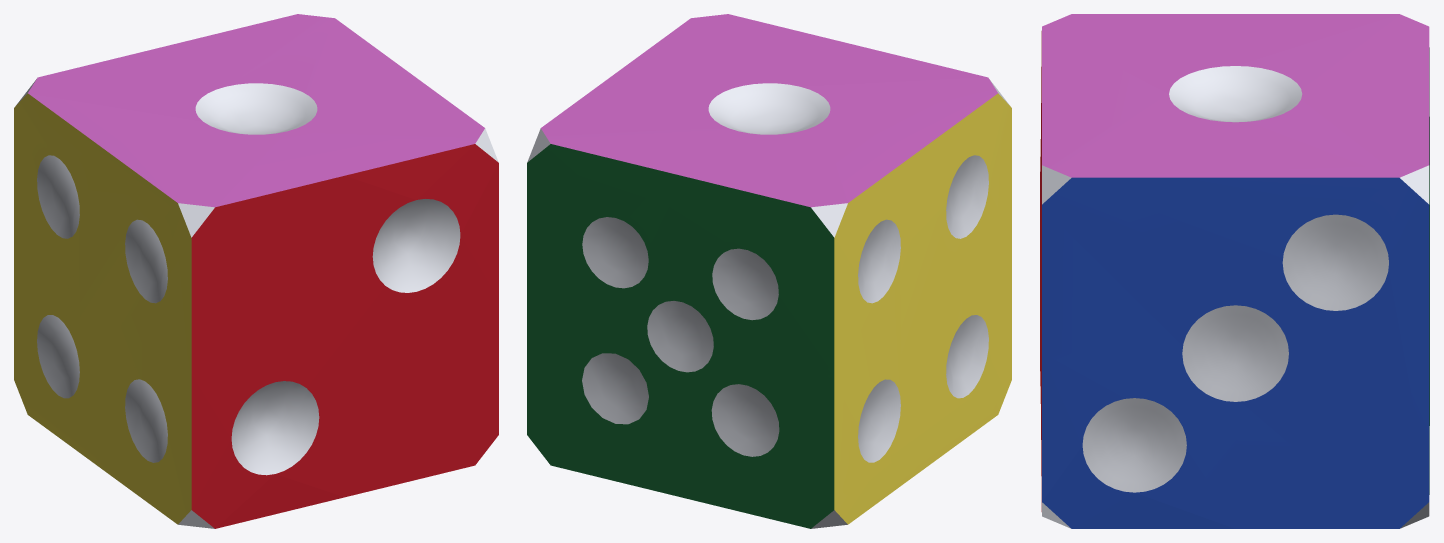
Rendered from Dice_ManyColor.fbx.
3 renders of one model, left to right at view 1: azimuth 30°, elevation 25°; view 2: azimuth 150°, elevation 25°; view 3: azimuth 270°, elevation 25°, orthographic. The views are drawn at different scales.
Parts seen in each view (by area): view 1: Dice_ManyColor; view 2: Dice_ManyColor; view 3: Dice_ManyColor.
Part boxes in pixels (bbox=[...]): Dice_ManyColor: bbox=[14, 14, 498, 528]; Dice_ManyColor: bbox=[527, 14, 1011, 528]; Dice_ManyColor: bbox=[1040, 14, 1429, 528].
Size of the model in its own units: 110 by 111 by 111.
